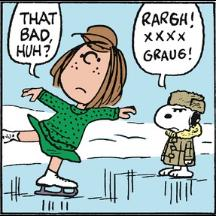snoopy: (154, 88, 207, 180)
